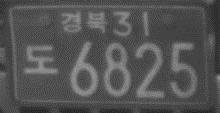1: (137, 11, 156, 35)
2: (135, 42, 165, 99)
3: (111, 10, 132, 35)
5: (169, 41, 199, 97)
6: (70, 41, 98, 96)
8: (103, 42, 131, 96)
경북_O: (59, 10, 105, 33)
도: (23, 44, 58, 75)
